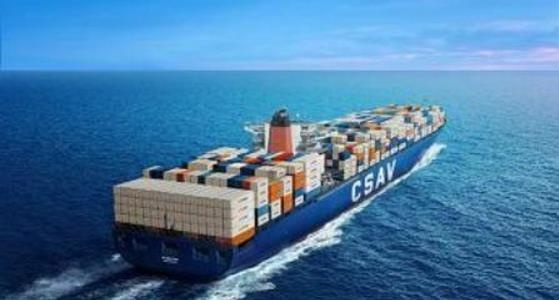Cargoship: (110, 89, 448, 279)
